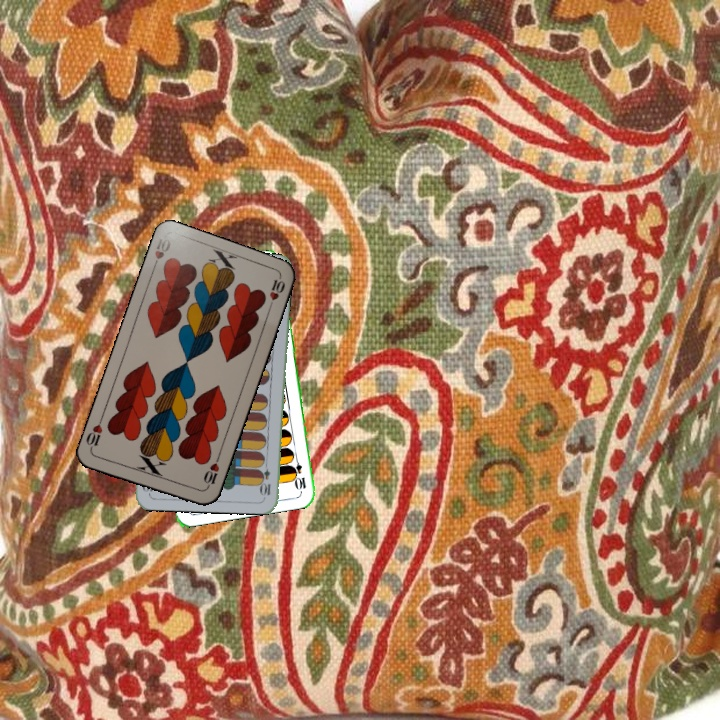E10: (289, 452, 309, 492), (259, 457, 273, 498)
H10: (147, 233, 174, 273), (199, 453, 222, 492)
